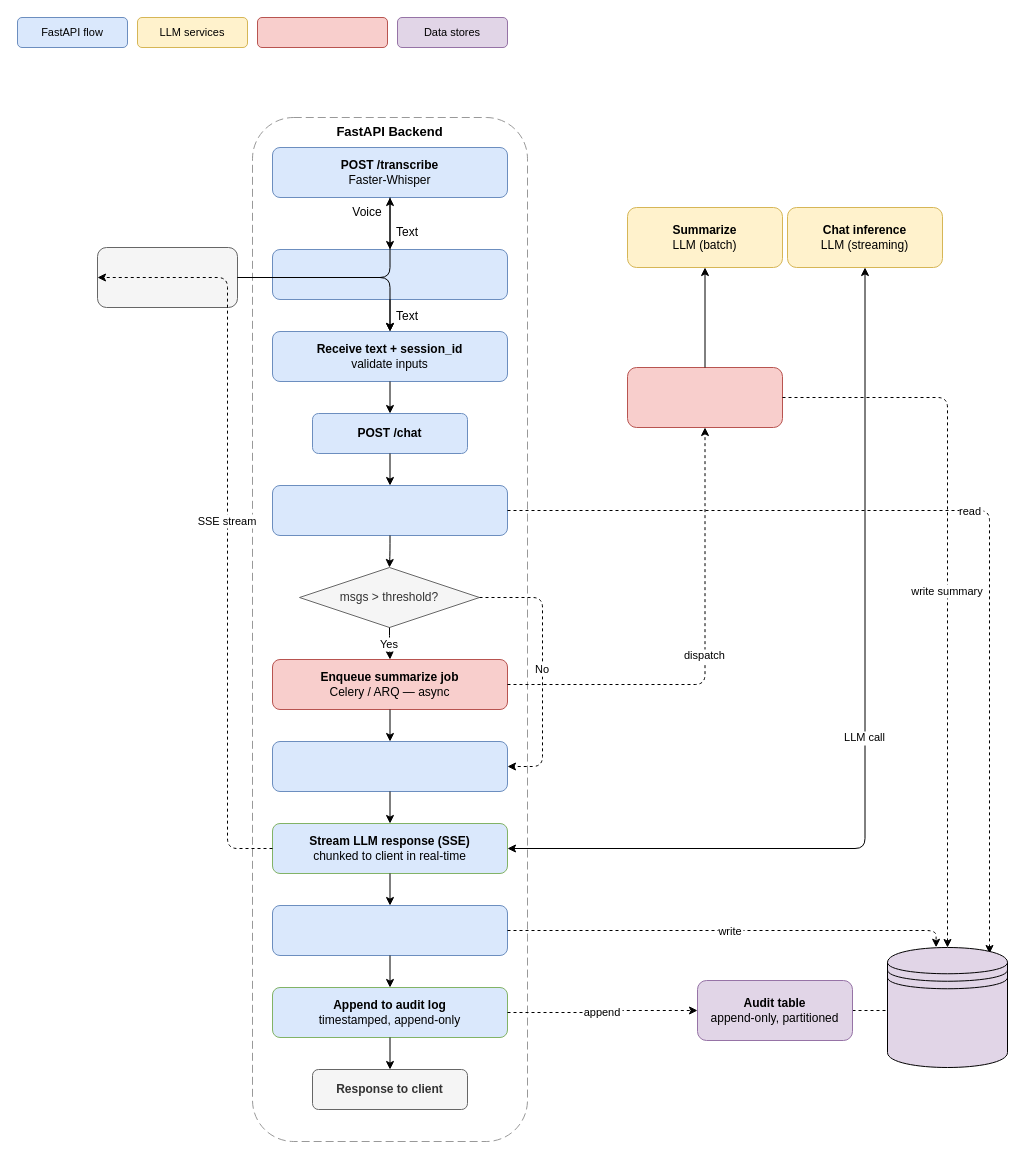
Some shapes in this 1025 by 1159 pixel diagram are drawn without their labels. The shapes that lost their labels are listed below. From the top down, each one's centre as x and y in pixels, then its label:
At (322,32): "Background worker".
At (167,277): "Frontend Mobile / Web UI".
At (390,274): "Auth / token validation JWT + session check".
At (704,397): "Worker Celery / ARQ".
At (390,510): "Fetch history from DB asyncpg pool — indexed on session_id, created_at".
At (390,766): "Build prompt summary + last N msgs + new msg".
At (390,930): "Save turn to DB user msg + assistant reply".
At (947,1007): "PostgreSQL operational tables idx: session_id, created_at".
